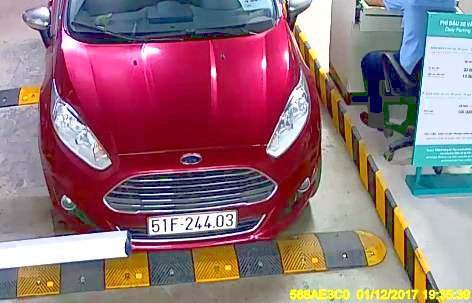plate: (145, 205, 242, 238)
